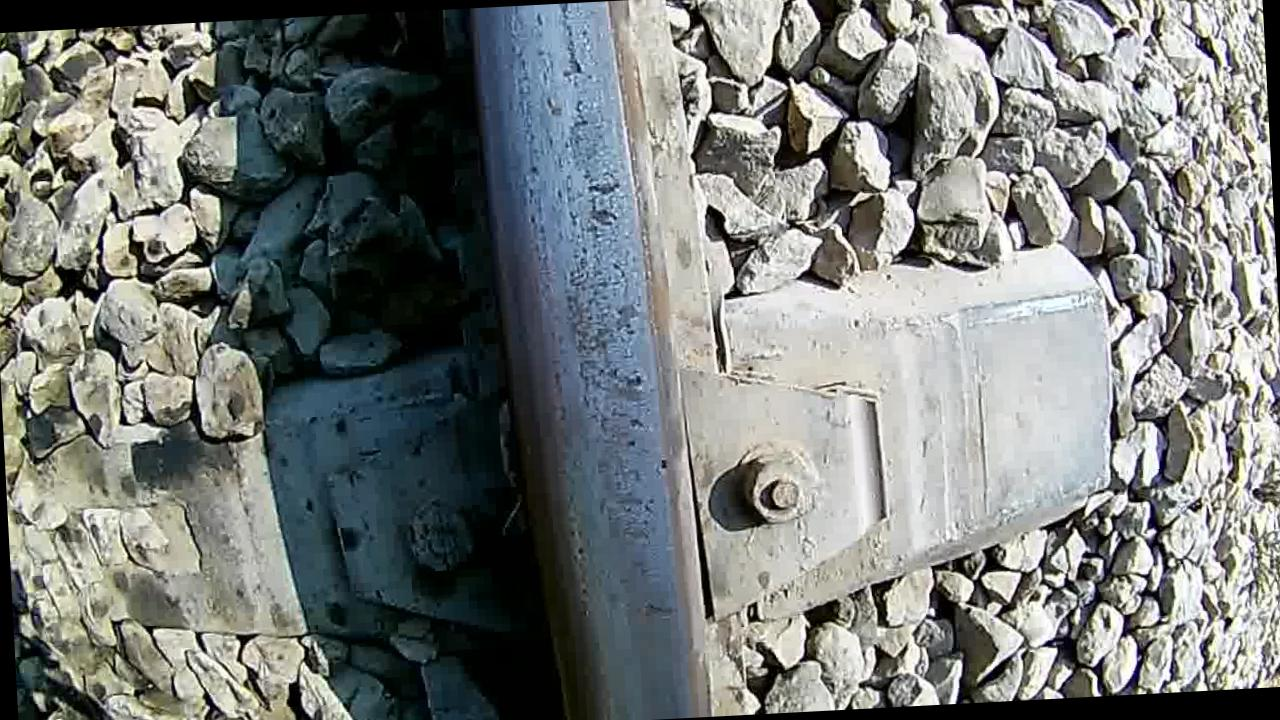crack: (474, 0, 705, 720)
